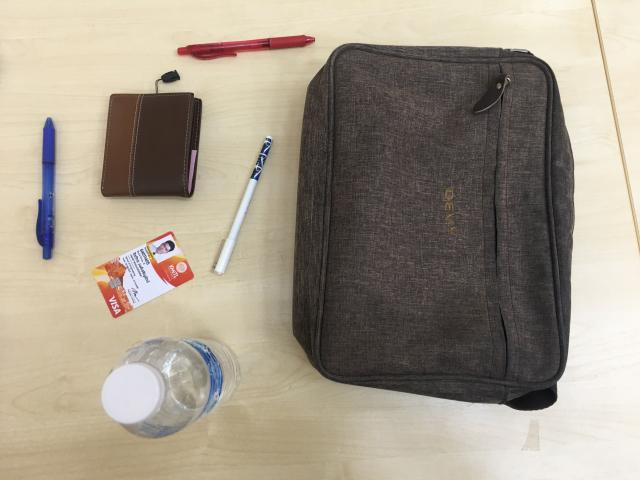Pen: (213, 137, 275, 276), (176, 35, 317, 60), (37, 117, 58, 262)
Wallet: (100, 93, 203, 199)
bottle: (100, 339, 241, 441)
